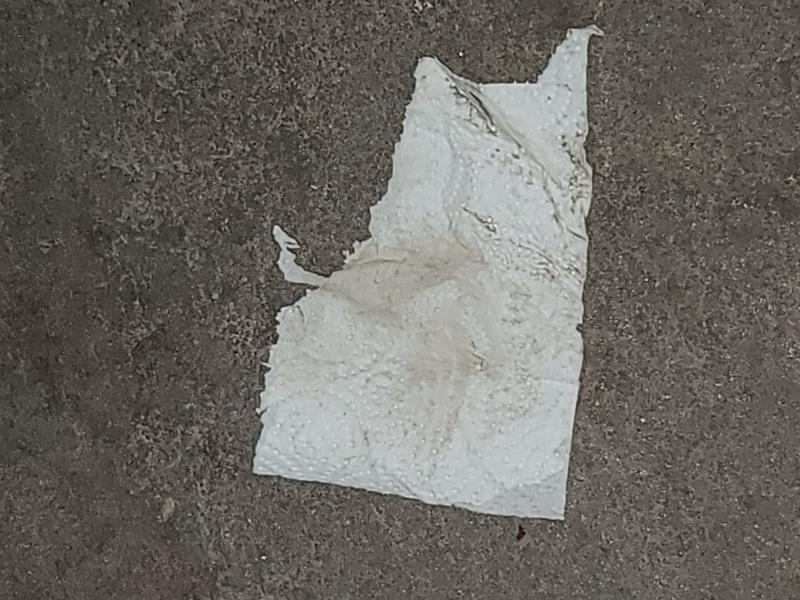papel: (250, 28, 599, 524)
